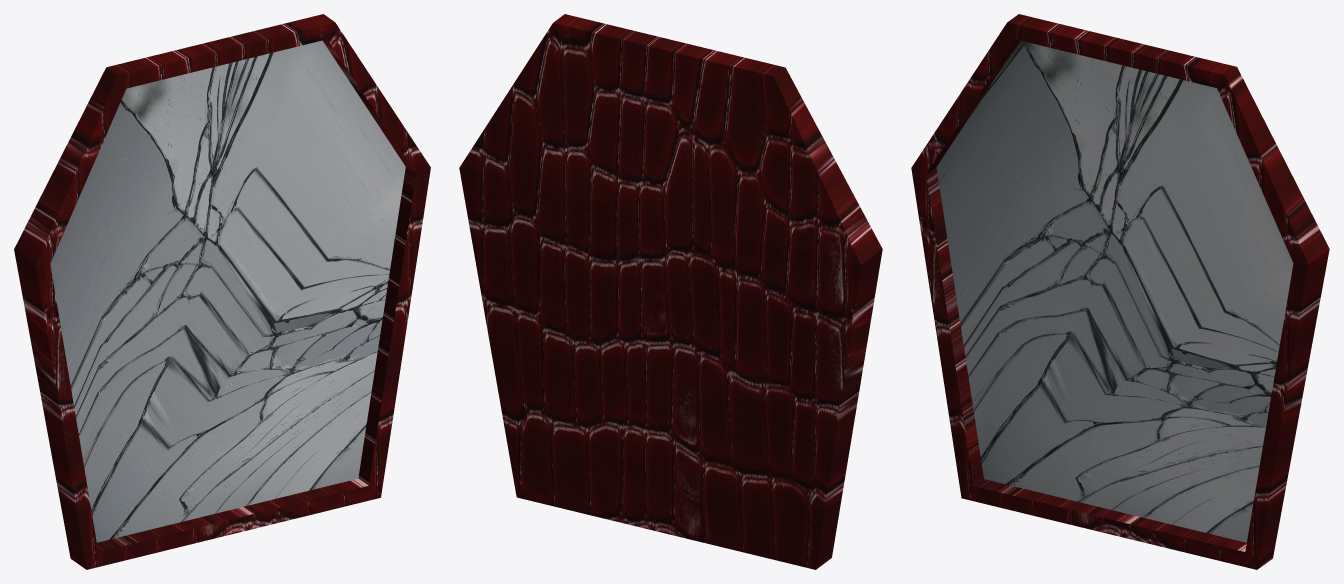
Rendered from Espejo.fbx.
3 renders of one model, left to right at view 1: azimuth 30°, elevation 25°; view 2: azimuth 150°, elevation 25°; view 3: azimuth 330°, elevation 25°, orthographic.
Visible parts, largest first — view 1: Plane.012; view 2: Plane.012; view 3: Plane.012.
Part boxes in pixels (left/top/right/bottom): Plane.012: left=14, top=14, right=430, bottom=569; Plane.012: left=459, top=14, right=882, bottom=569; Plane.012: left=911, top=14, right=1329, bottom=569.
Size of the model in its own units: 2 by 2.32 by 0.1967.
Materials: 2 (2 with a texture image).
